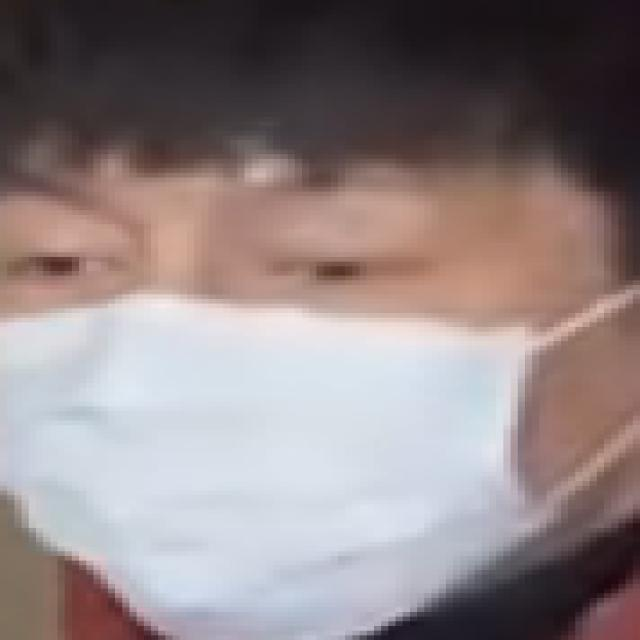mask: (0, 75, 597, 635)
